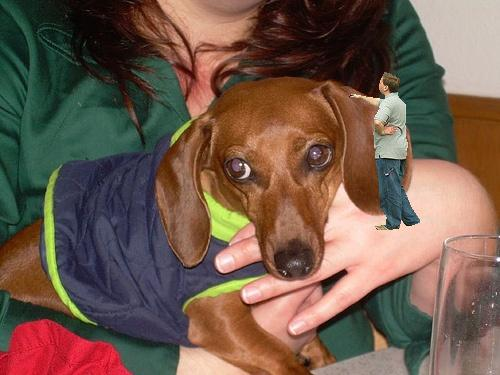tampered: (350, 73, 420, 230)
